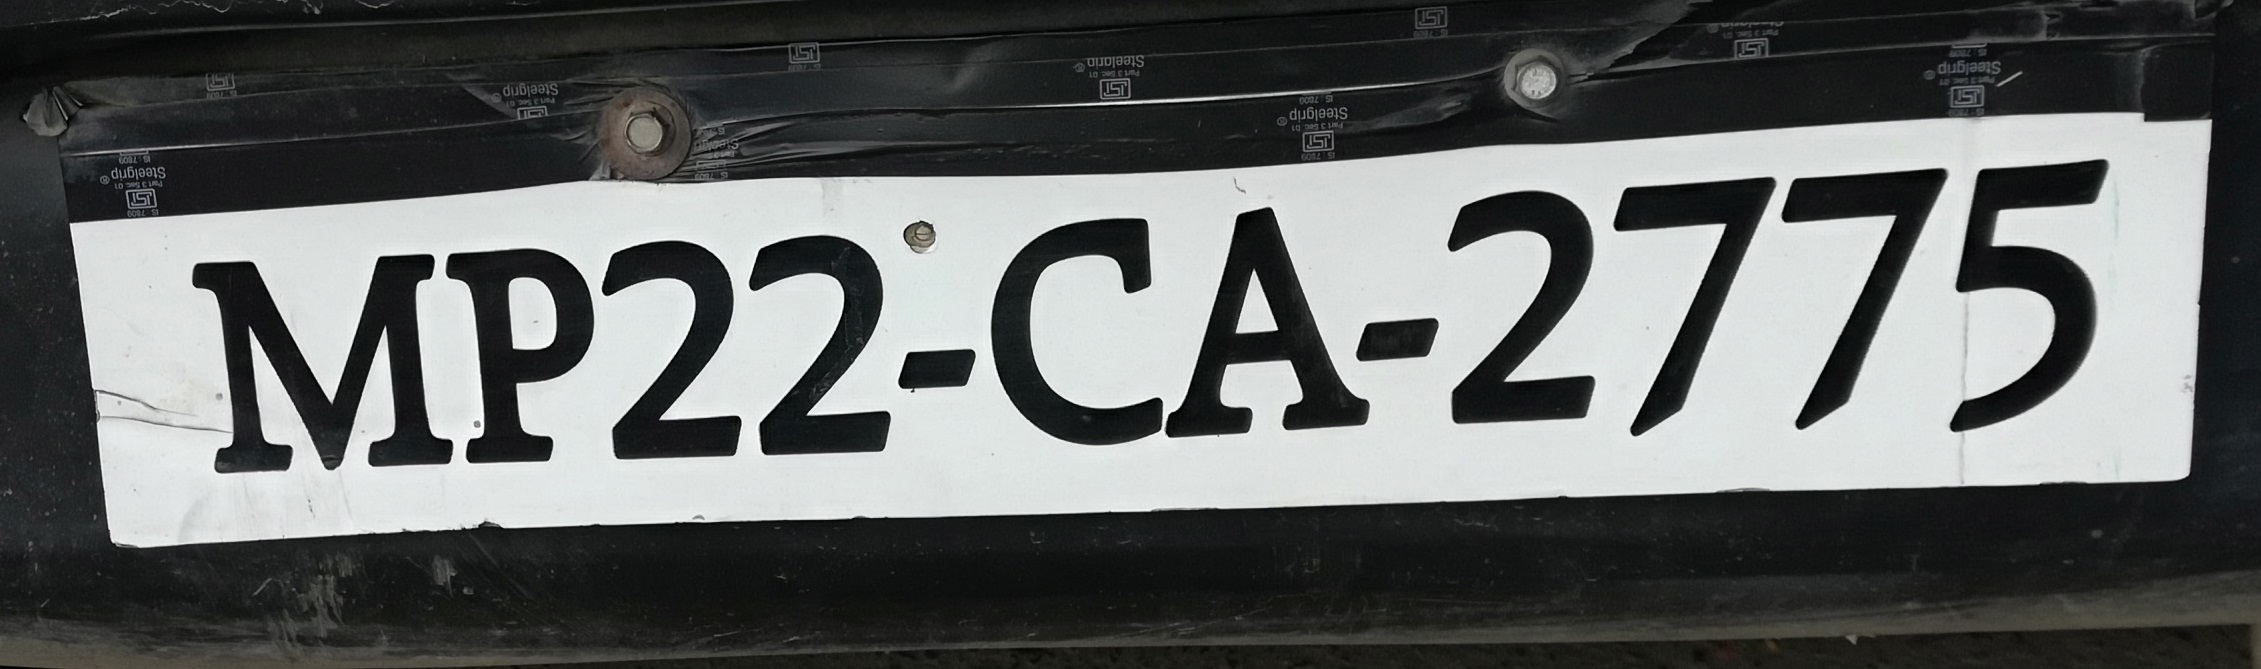numberplate: (56, 109, 2227, 550)
